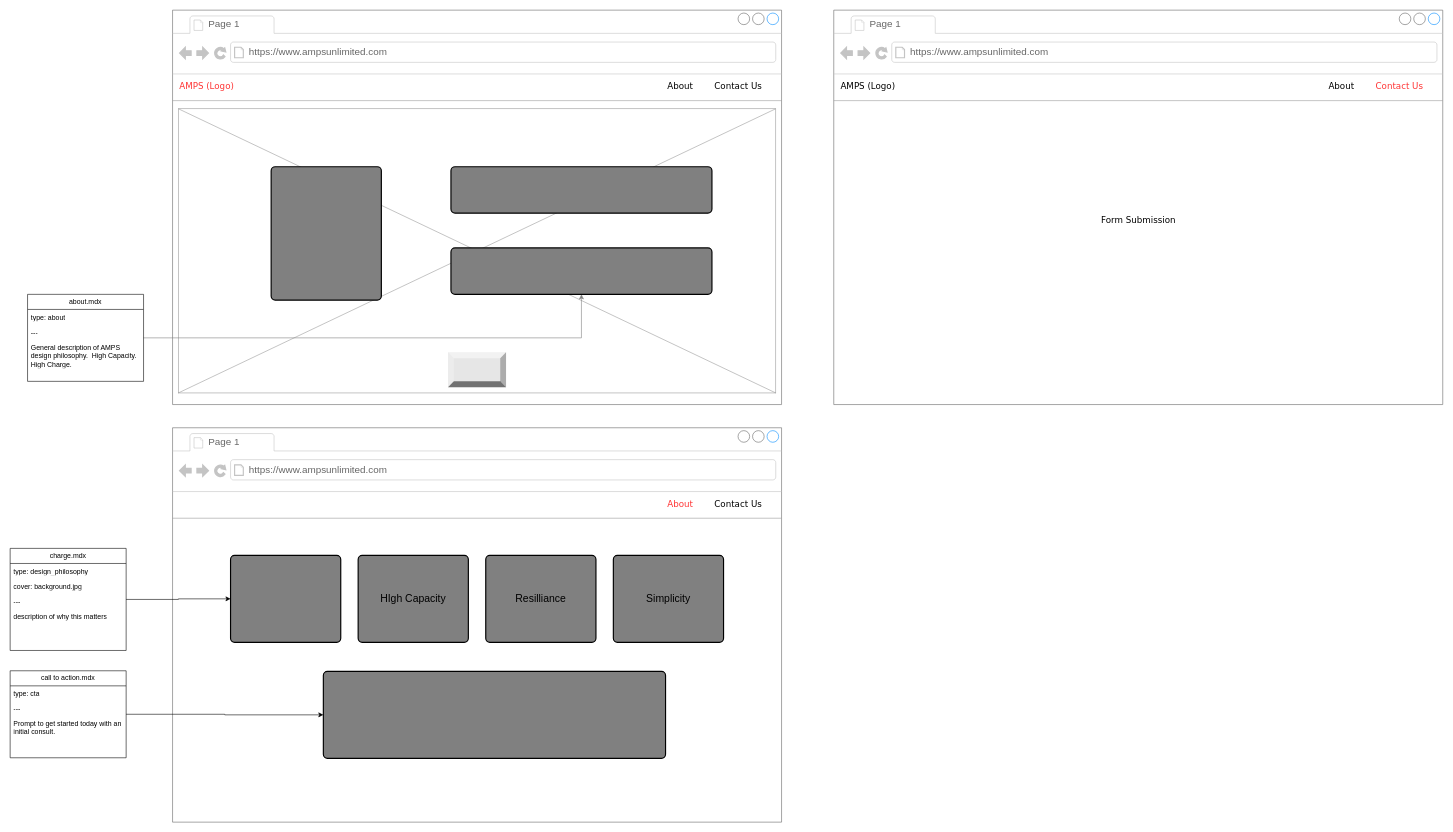
The diagram is 1453 pixels wide and 832 high, and some of its shapes have lost their labels. The centre of each missing label's shape, as x and y in pixels:
"A perion M arine P ower S ystems" goes at (326,233).
"Call To Action" goes at (494,714).
"Definition of Aperion" goes at (581,189).
"Down" goes at (477,369).
"High Charge Rate" goes at (285,598).
"Short Description of what we are about" goes at (581,271).
